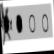correct: (16, 11, 24, 36)
not correct: (0, 0, 13, 45)
